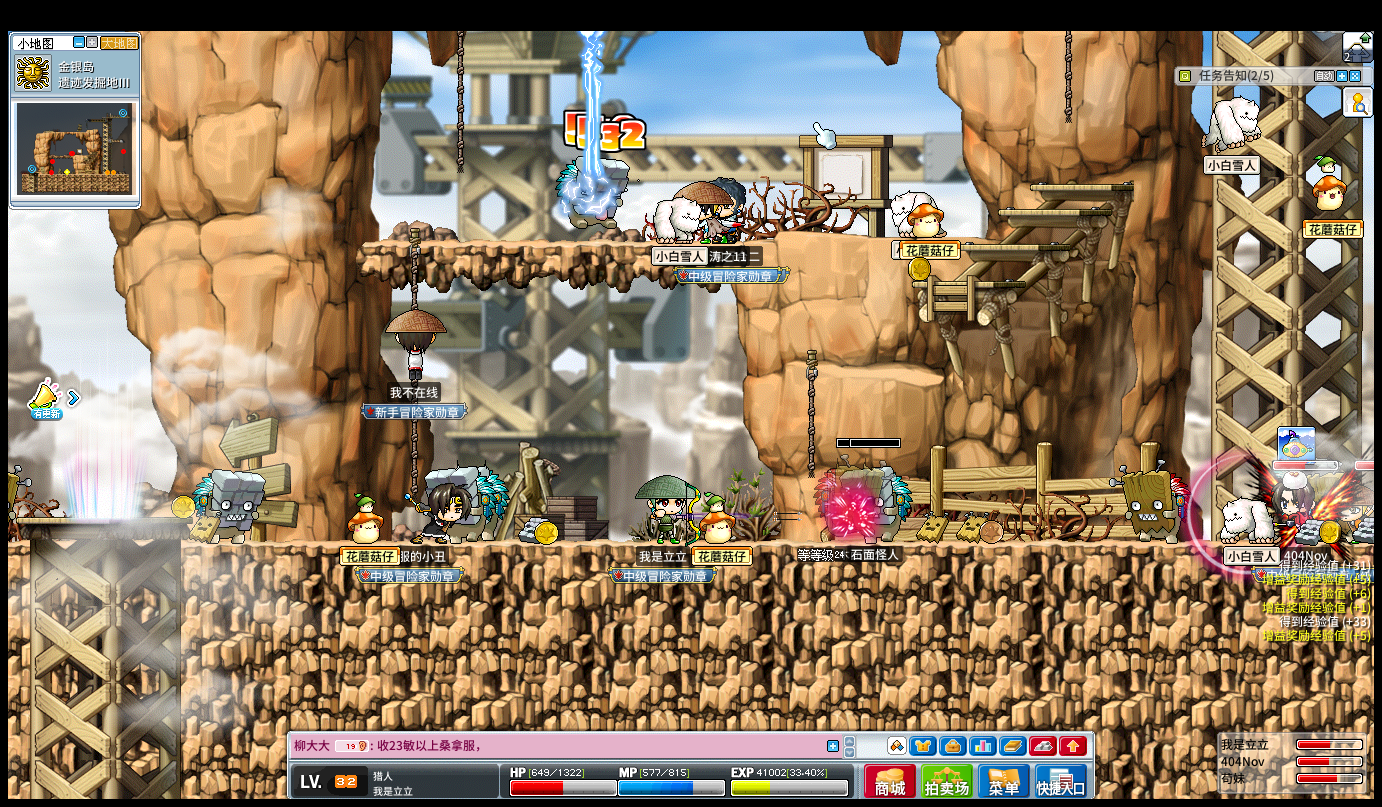floor: (362, 238, 726, 249), (837, 364, 944, 385), (16, 515, 189, 524), (909, 279, 1025, 288), (996, 207, 1109, 215), (1029, 184, 1133, 192), (961, 244, 1067, 250)
monster: (552, 157, 629, 241), (1113, 463, 1188, 541), (192, 470, 264, 543), (862, 468, 912, 540)
rope: (806, 349, 817, 478), (456, 30, 466, 170), (405, 226, 420, 309), (455, 29, 463, 169), (1062, 30, 1070, 122), (405, 419, 415, 492)
